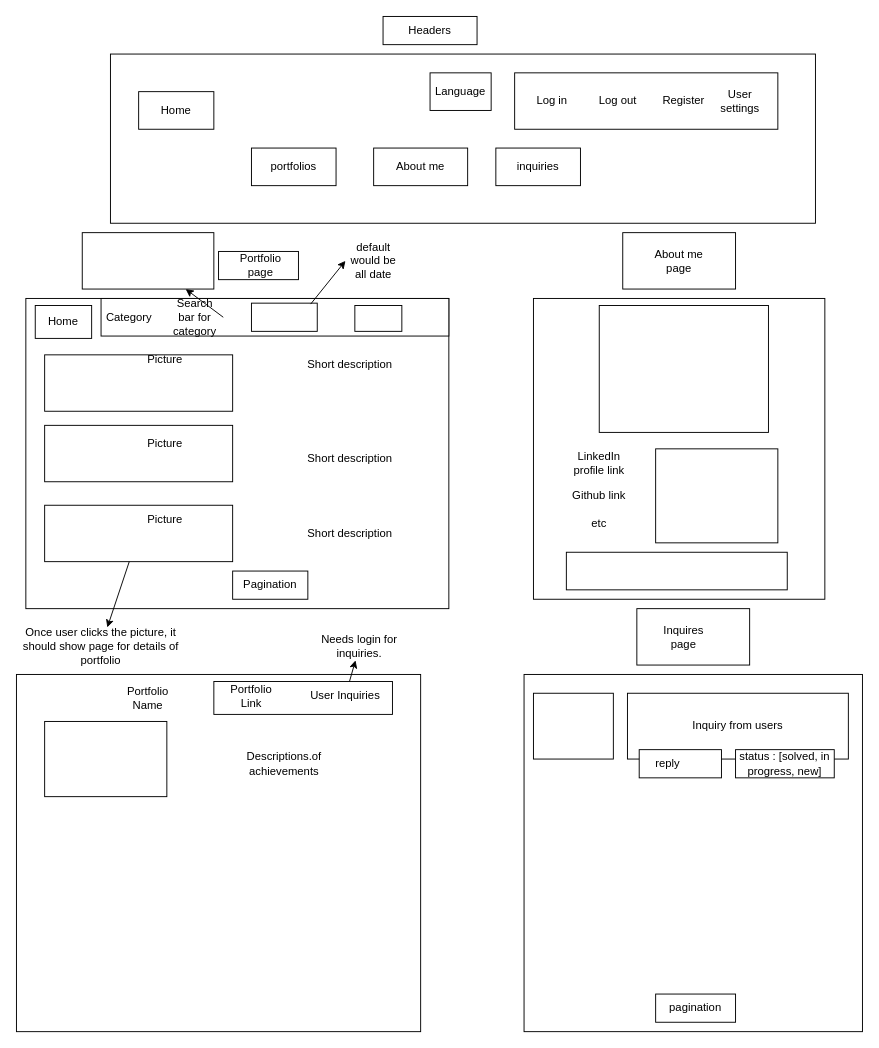
Image size: 879x1048. Some labels were removed from this diagram. Each missing label, with the box of its shape:
date: (251, 302, 317, 331)
maybe description of my self + .....: (655, 448, 778, 543)
name drop down: (354, 305, 402, 331)
Picture of myself: (598, 305, 768, 432)
screenshots with descriptions: (44, 721, 167, 797)
user name: (533, 692, 613, 759)
when user clicks, there should be categories pop out to choose one of them.: (81, 232, 214, 289)
Work experience page or sth...: (565, 551, 787, 590)
